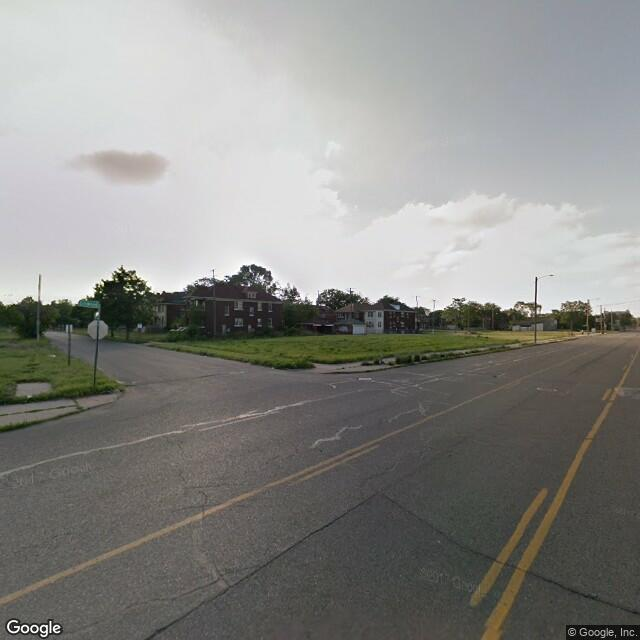litter: (25, 394, 36, 398), (269, 365, 276, 369)
